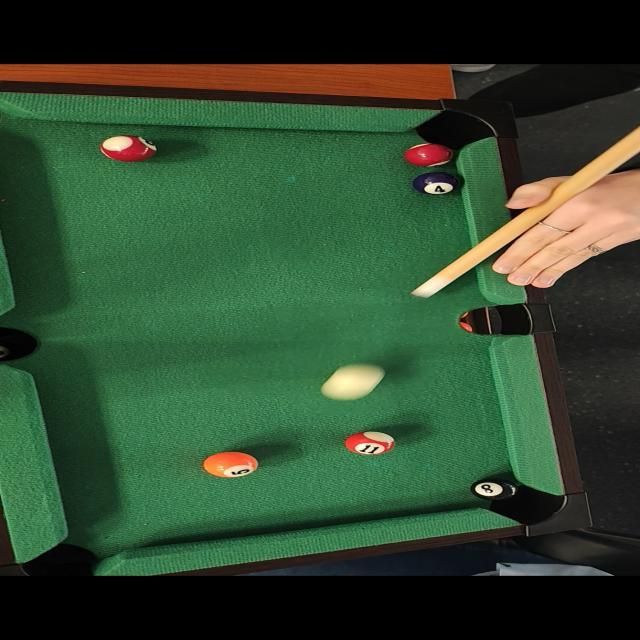cue ball: (315, 361, 386, 400)
other: (96, 132, 163, 164), (408, 168, 463, 198), (200, 451, 256, 480), (397, 142, 458, 168), (470, 477, 528, 503), (344, 431, 398, 457)
